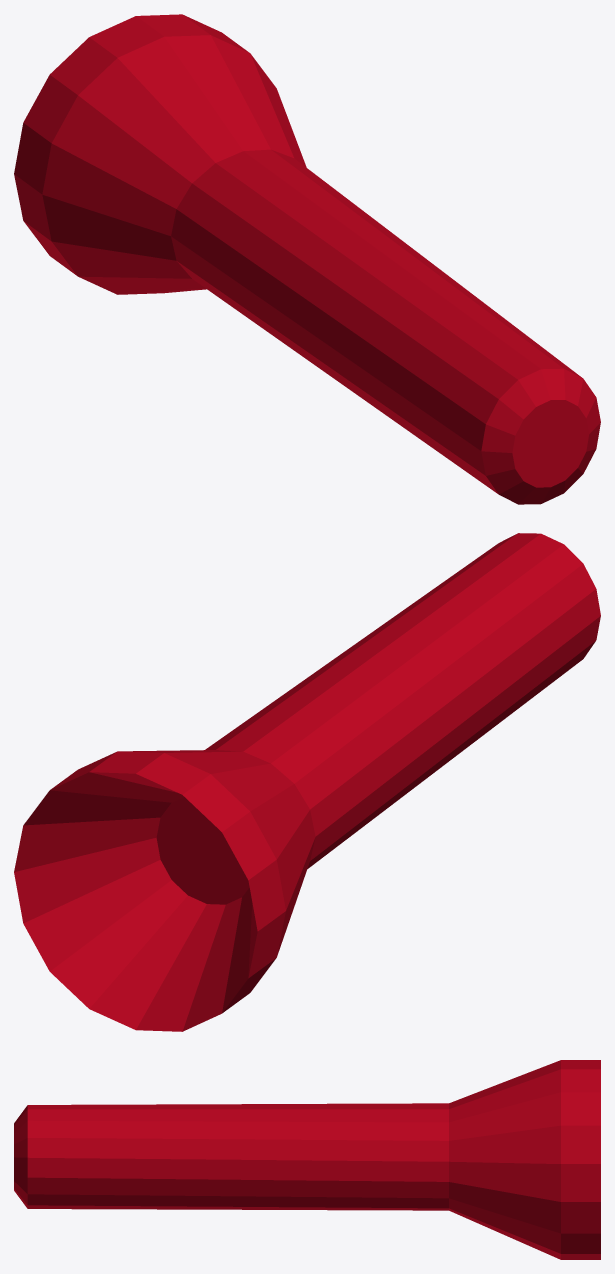
Rendered from torch0.1 (made by me).glb.
The picture shows the model from 3 angles, top to bottom: view 1: azimuth 30°, elevation 25°; view 2: azimuth 150°, elevation 25°; view 3: azimuth 270°, elevation 25°; orthographic projection. The views are drawn at different scales.
Parts seen in each view (by area): view 1: Cylinder; view 2: Cylinder; view 3: Cylinder.
Part boxes in pixels (box(x1,y1,x2,y2)): Cylinder: box(14, 14, 600, 504); Cylinder: box(14, 533, 600, 1031); Cylinder: box(14, 1060, 600, 1259).
Size of the model in its own units: 1.98 by 1.99 by 5.84.
